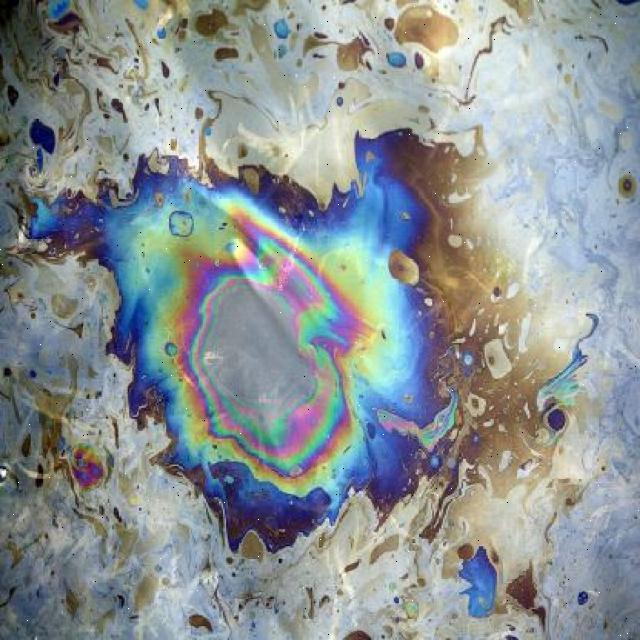rainbow: (102, 132, 457, 552)
